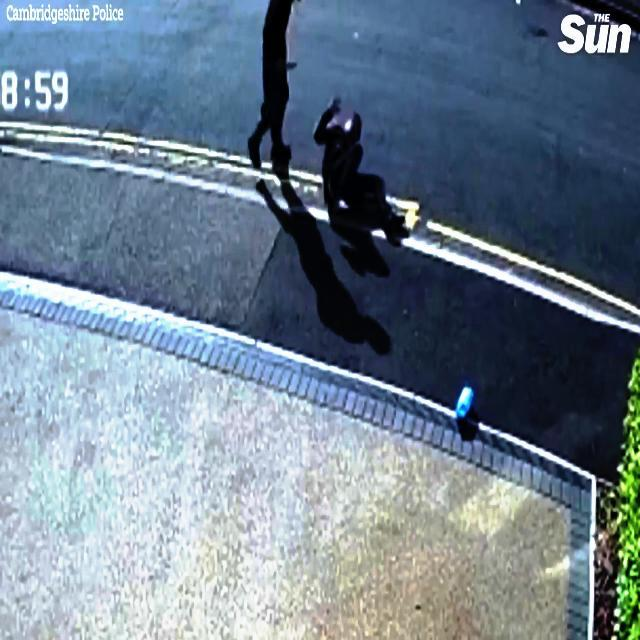Knife: (275, 52, 303, 80)
